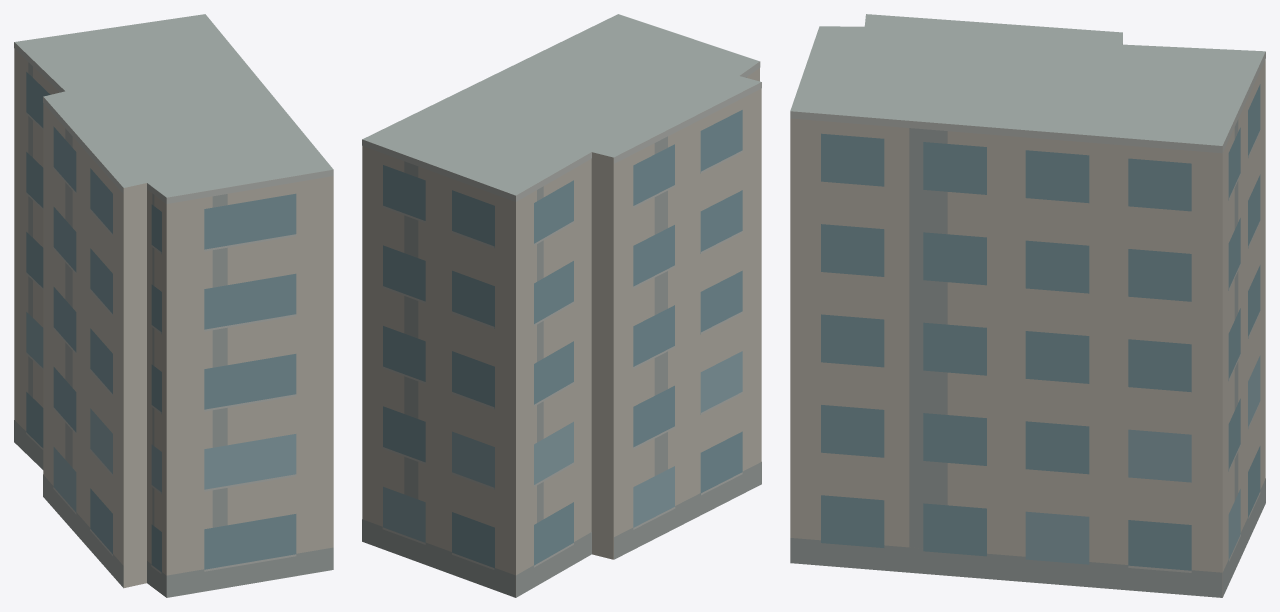
Rendered from survey-upis-32787925.glb.
The picture shows the model from 3 angles, left to right: view 1: azimuth 30°, elevation 25°; view 2: azimuth 150°, elevation 25°; view 3: azimuth 270°, elevation 25°; orthographic projection. The views are drawn at different scales.
Parts seen in each view (by area): view 1: survey-upis-32787925.tmp; view 2: survey-upis-32787925.tmp; view 3: survey-upis-32787925.tmp.
Boxes of the visible parts, x1,y1,x2,y2 form: survey-upis-32787925.tmp: (14, 14, 333, 597); survey-upis-32787925.tmp: (362, 14, 761, 597); survey-upis-32787925.tmp: (790, 14, 1265, 597).
Bounding box in the file's own units: 9.57 × 15.25 × 14.56.
